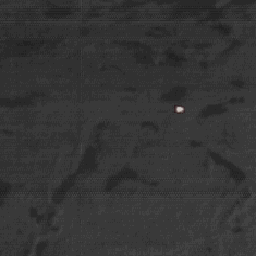Target: (175, 106, 184, 113)
